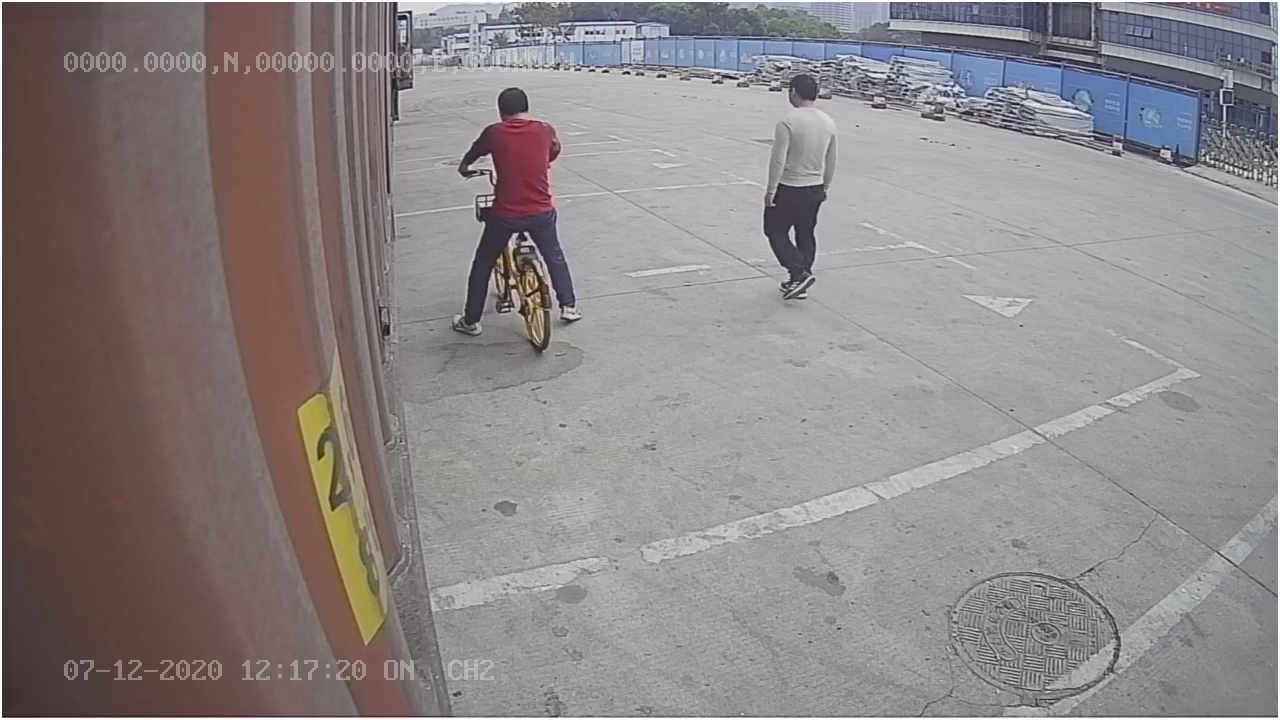person: (762, 70, 849, 306)
